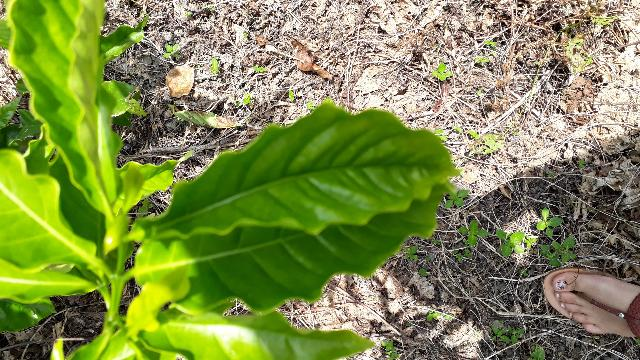healthy: (132, 103, 458, 234)
